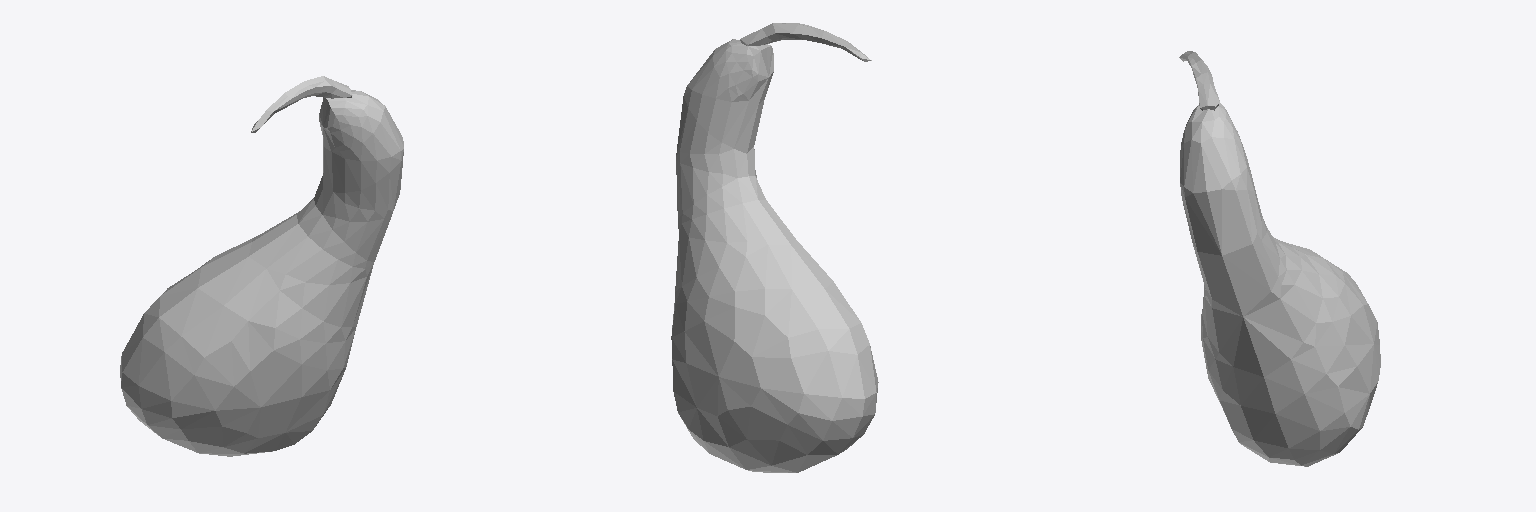
The model's file is gourd.obj.
3 renders of one model, left to right at view 1: azimuth 30°, elevation 25°; view 2: azimuth 150°, elevation 25°; view 3: azimuth 270°, elevation 25°, orthographic.
Visible parts, largest first — view 1: Mesh.002_gourd; view 2: Mesh.002_gourd; view 3: Mesh.002_gourd.
Part boxes in pixels (left/top/right/bottom): Mesh.002_gourd: left=120, top=76, right=403, bottom=456; Mesh.002_gourd: left=671, top=23, right=878, bottom=472; Mesh.002_gourd: left=1179, top=51, right=1380, bottom=466.
Bounding box in the file's own units: 1.91 × 3.18 × 1.44.